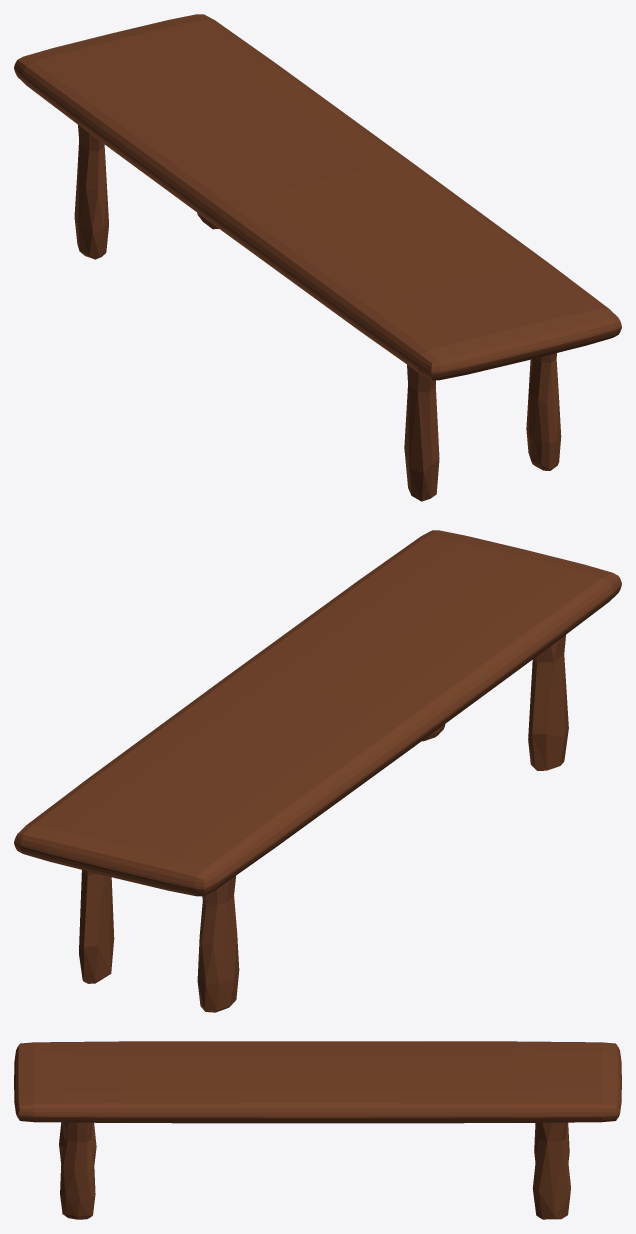
The model's file is Mesa_2.fbx.
3 views of the same model, one above another, from view 1: azimuth 30°, elevation 25°; view 2: azimuth 150°, elevation 25°; view 3: azimuth 270°, elevation 25° (orthographic). The views are drawn at different scales.
Visible parts, largest first — view 1: Mesa_2; view 2: Mesa_2; view 3: Mesa_2.
Boxes of the visible parts, x1=… form: Mesa_2: x1=14, y1=14, x2=621, y2=501; Mesa_2: x1=14, y1=530, x2=621, y2=1012; Mesa_2: x1=14, y1=1041, x2=621, y2=1219.
Bounding box in the file's own units: 132 × 110 × 481.
